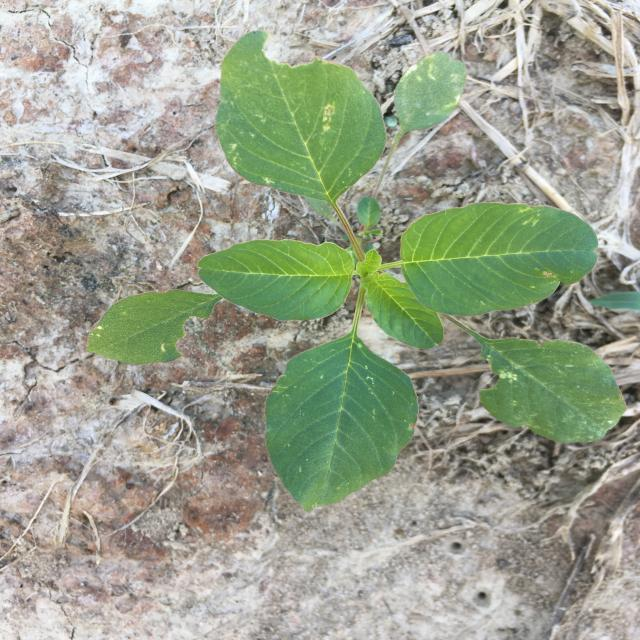PalmerAmaranth: (88, 29, 628, 511)
